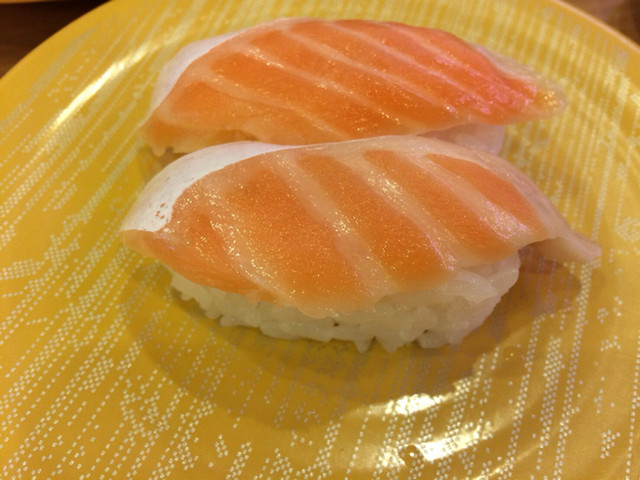salmon: (118, 134, 589, 341), (146, 14, 549, 143)
